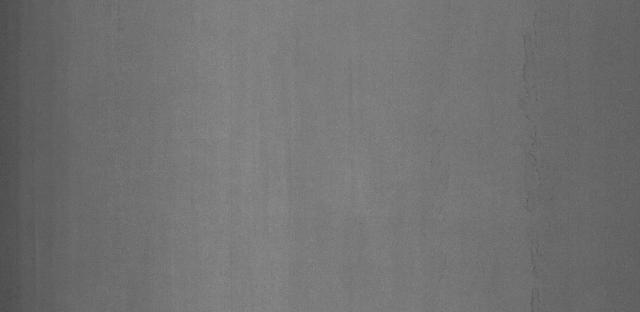silk_spot: (507, 34, 583, 298)
